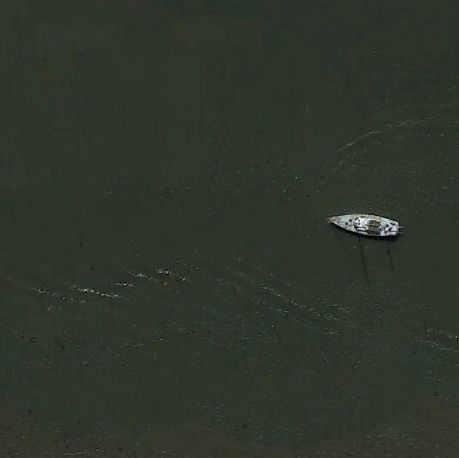boat: (327, 212, 401, 239)
